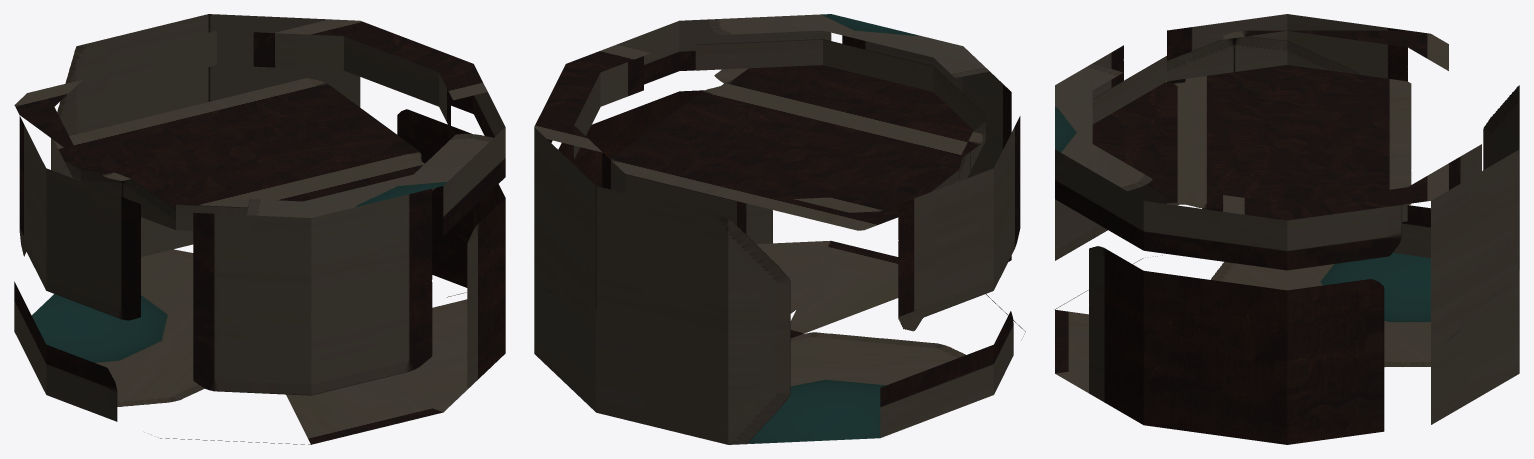
Rendered from Tsutsu.fbx.
3 renders of one model, left to right at view 1: azimuth 30°, elevation 25°; view 2: azimuth 150°, elevation 25°; view 3: azimuth 270°, elevation 25°, orthographic.
Parts seen in each view (by area): view 1: pCylinder1; view 2: pCylinder1; view 3: pCylinder1.
Part boxes in pixels (left/top/right/bottom): pCylinder1: left=14, top=14, right=505, bottom=444; pCylinder1: left=534, top=14, right=1025, bottom=444; pCylinder1: left=1054, top=14, right=1519, bottom=444.
Bounding box in the file's own units: 276 × 140 × 263.
Materials: 1 (1 with a texture image).
